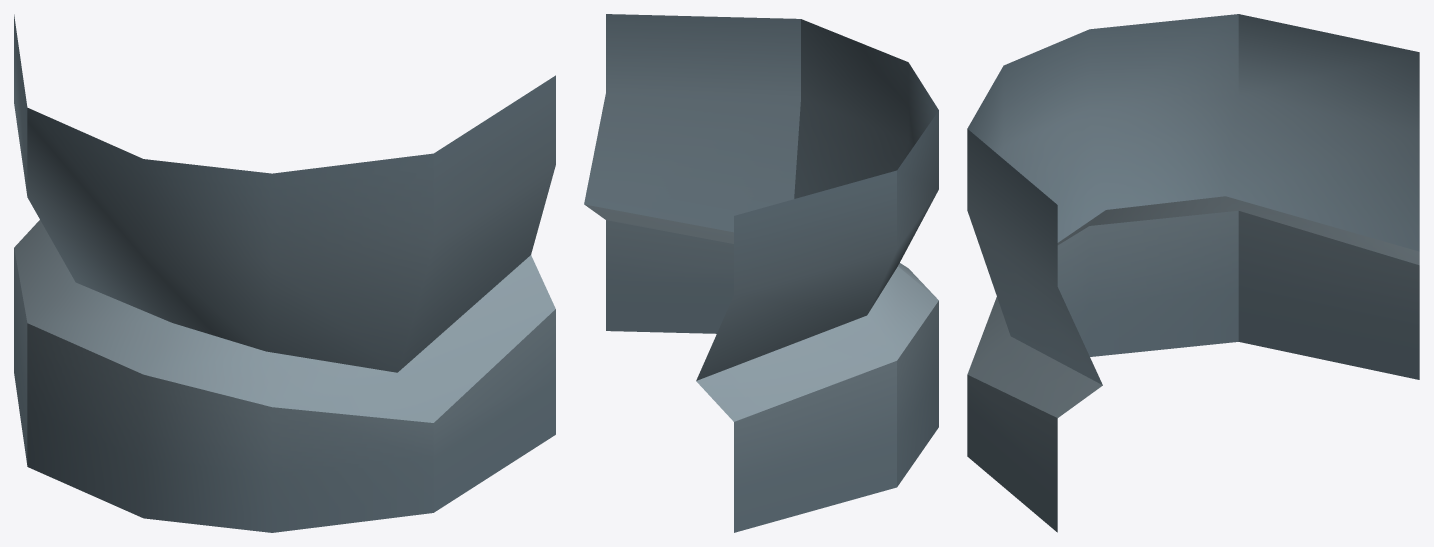
The model's file is Hill_Cliff_G_OuterCorner_Color4.fbx.
3 renders of one model, left to right at view 1: azimuth 30°, elevation 25°; view 2: azimuth 150°, elevation 25°; view 3: azimuth 270°, elevation 25°, orthographic. The views are drawn at different scales.
Visible parts, largest first — view 1: Hill_Cliff_G_OuterCorner_Color4; view 2: Hill_Cliff_G_OuterCorner_Color4; view 3: Hill_Cliff_G_OuterCorner_Color4.
Boxes of the visible parts, x1=… form: Hill_Cliff_G_OuterCorner_Color4: x1=14, y1=14, x2=555, y2=532; Hill_Cliff_G_OuterCorner_Color4: x1=584, y1=14, x2=938, y2=532; Hill_Cliff_G_OuterCorner_Color4: x1=967, y1=14, x2=1419, y2=532.
Bounding box in the file's own units: 2.5 × 2 × 2.5.
